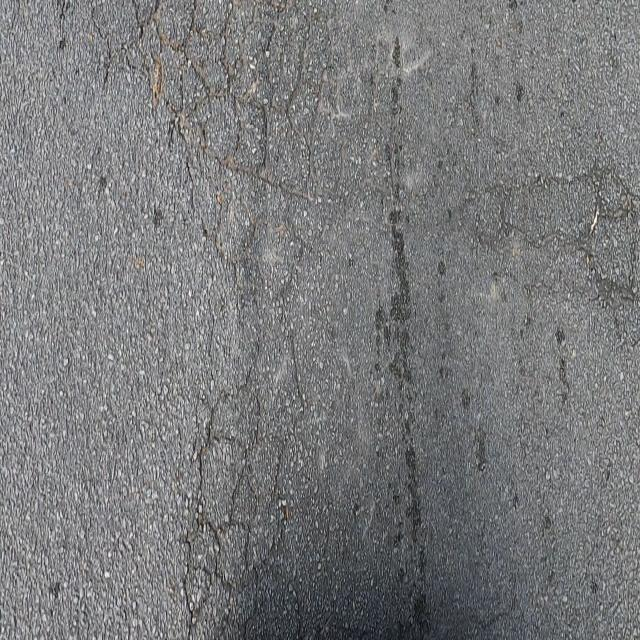Retak-Buaya: (84, 0, 392, 640), (471, 154, 640, 307)
